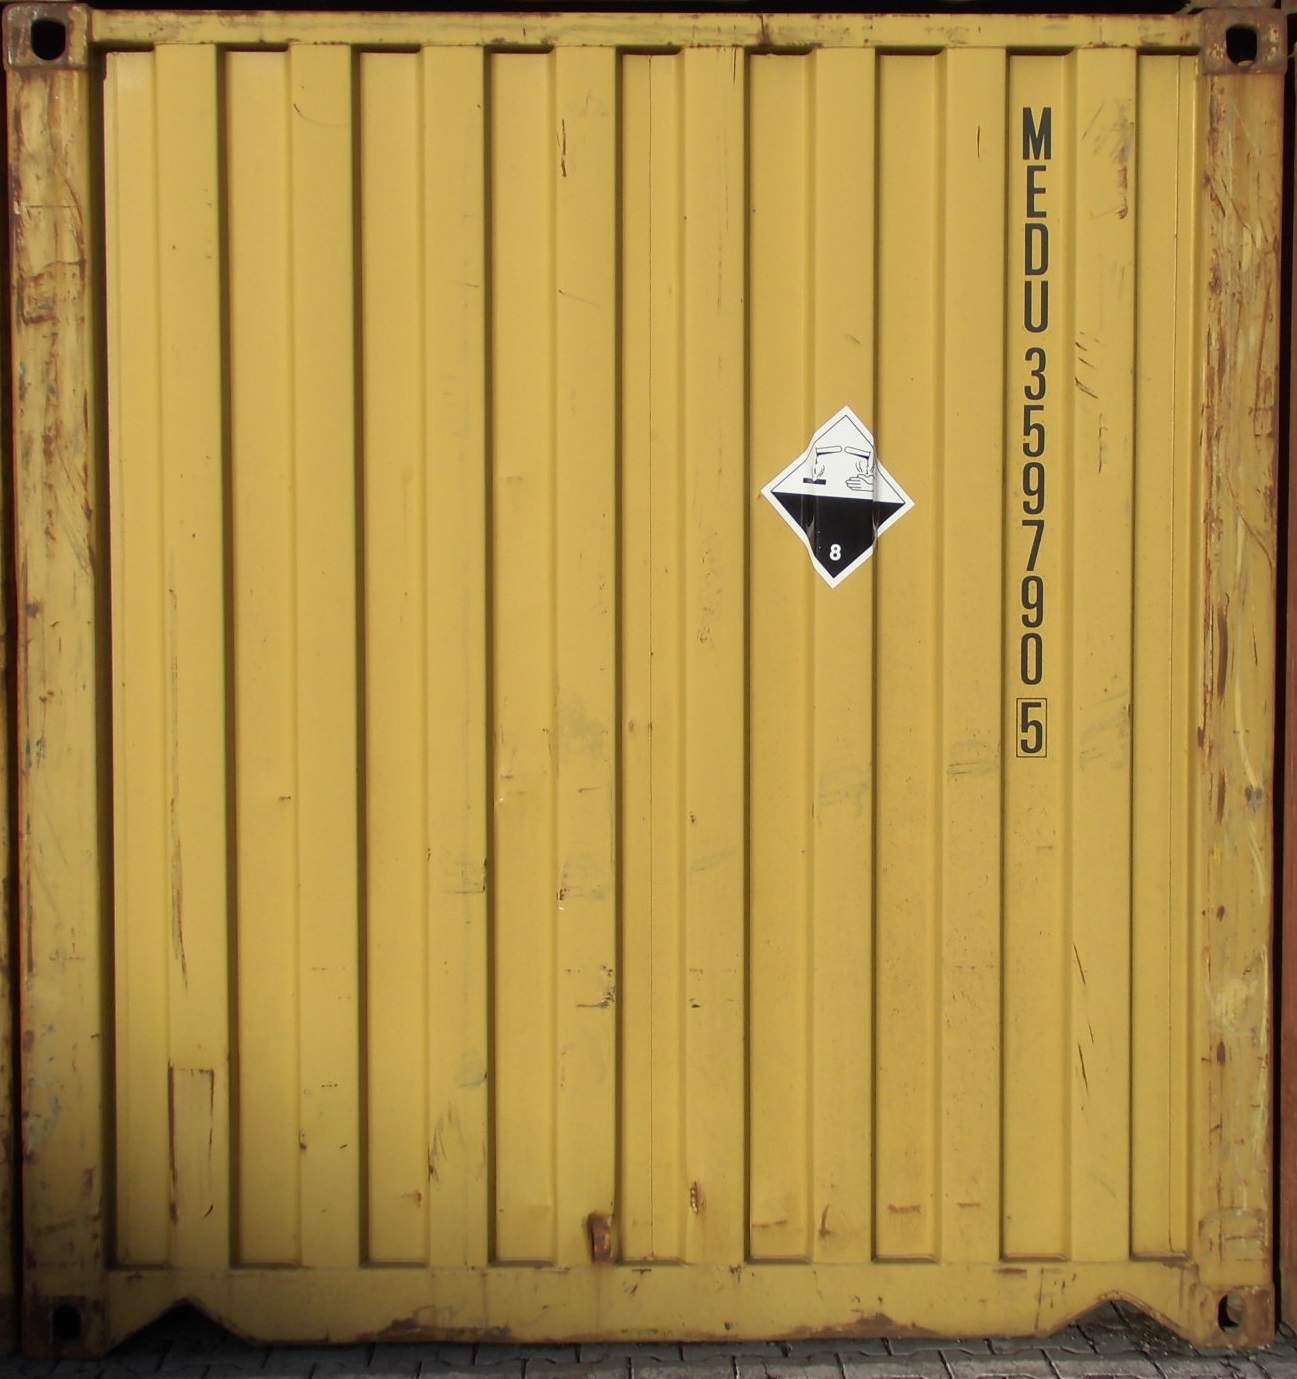container_no_door: (1, 9, 1269, 1356)
